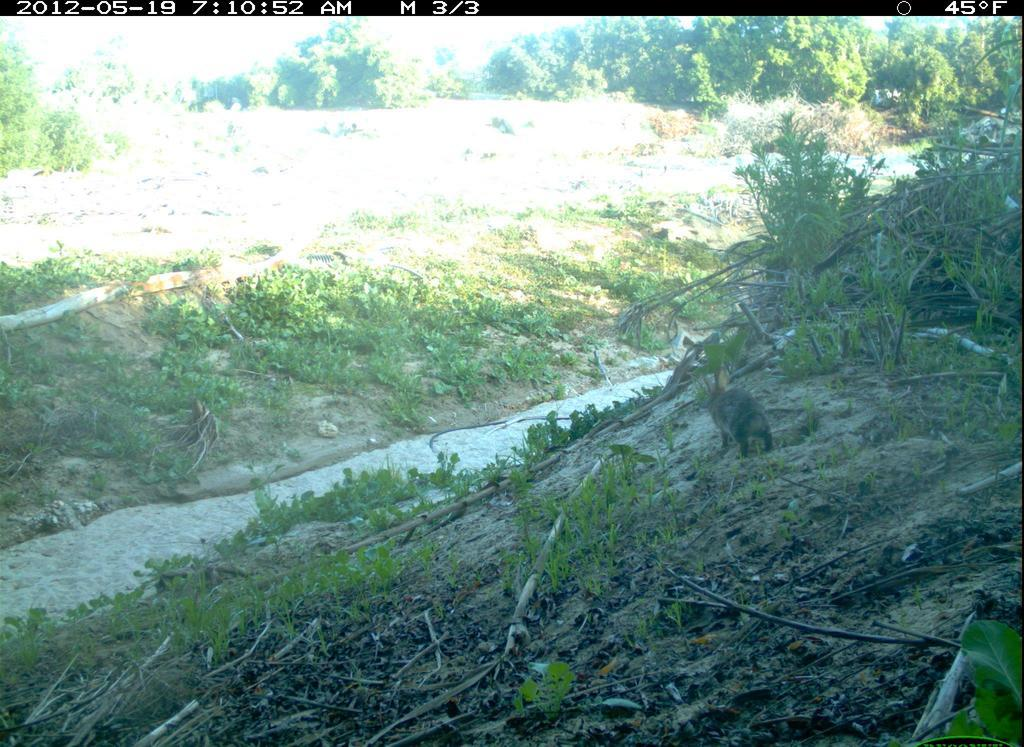rabbit: (676, 359, 781, 465)
